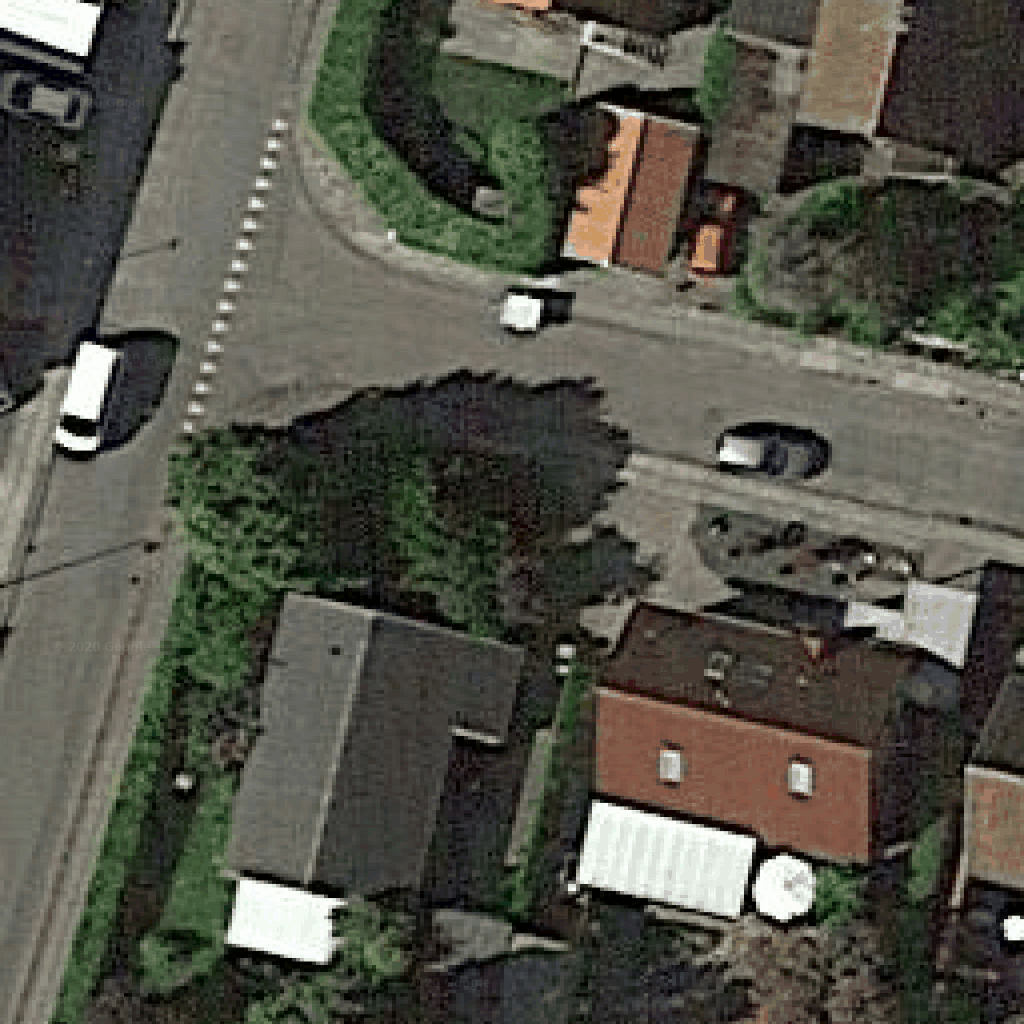car: (49, 341, 129, 460), (717, 425, 824, 483), (1, 78, 100, 134), (682, 188, 740, 278)
